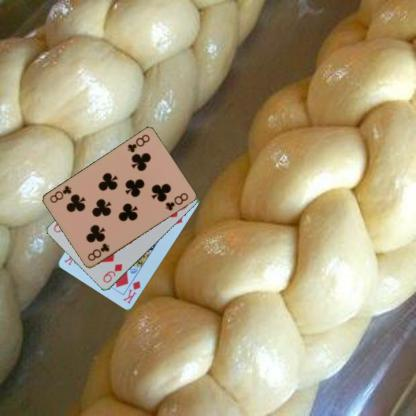8c: (125, 132, 151, 154), (85, 241, 111, 262)
9d: (100, 261, 124, 284)
Kd: (120, 278, 142, 305)
